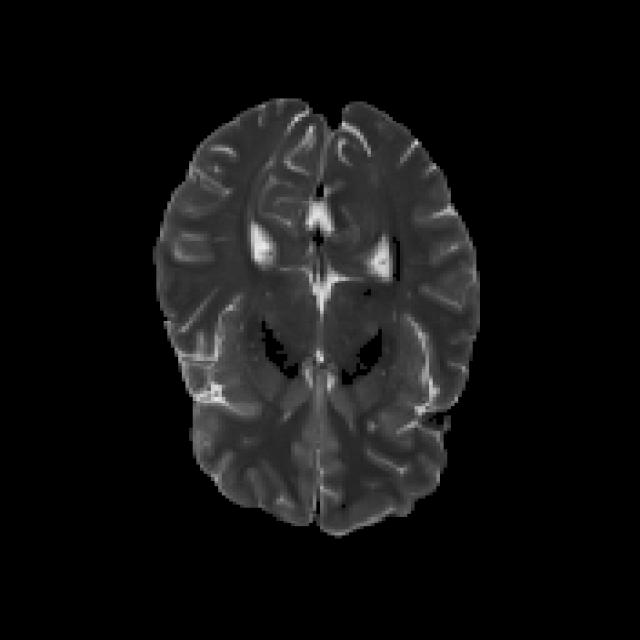CONTROL: (149, 96, 480, 536)
